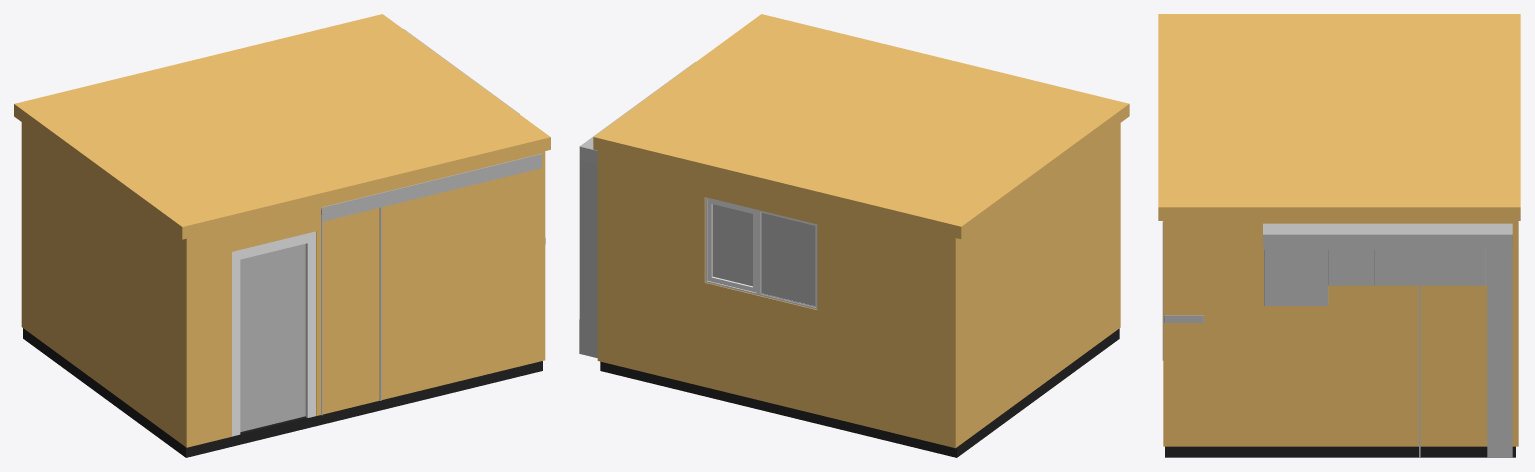
File: FloorPlan24_physics.fbx
3 views of the same model, side by side, from view 1: azimuth 30°, elevation 25°; view 2: azimuth 150°, elevation 25°; view 3: azimuth 270°, elevation 25° (orthographic). The views are drawn at different scales.
Visible parts, largest first — view 1: Room.028, Ceiling, Door, Floor1, DoorFrame, Cube.294; view 2: Room.028, Ceiling, WindowPane, Floor1, Cube.275, WindowFrame; view 3: Ceiling, Room.028, Cube.275, Floor1, Cube.294.
Boxes of the visible parts, x1=… form: Room.028: x1=21, y1=122, x2=545, y2=447; Ceiling: x1=14, y1=14, x2=550, y2=239; Door: x1=240, y1=244, x2=305, y2=431; Floor1: x1=23, y1=328, x2=542, y2=457; DoorFrame: x1=232, y1=231, x2=315, y2=436; Cube.294: x1=321, y1=153, x2=545, y2=415; Room.028: x1=597, y1=123, x2=1120, y2=448; Ceiling: x1=593, y1=14, x2=1129, y2=239; WindowPane: x1=712, y1=204, x2=815, y2=305; Floor1: x1=600, y1=328, x2=1119, y2=457; Cube.275: x1=579, y1=62, x2=695, y2=357; WindowFrame: x1=705, y1=197, x2=817, y2=309; Ceiling: x1=1158, y1=14, x2=1520, y2=220; Room.028: x1=1163, y1=221, x2=1518, y2=446; Cube.275: x1=1263, y1=223, x2=1512, y2=457; Floor1: x1=1165, y1=446, x2=1515, y2=457; Cube.294: x1=1162, y1=221, x2=1203, y2=360.
Size of the model in its own units: 459 by 266 by 346.
